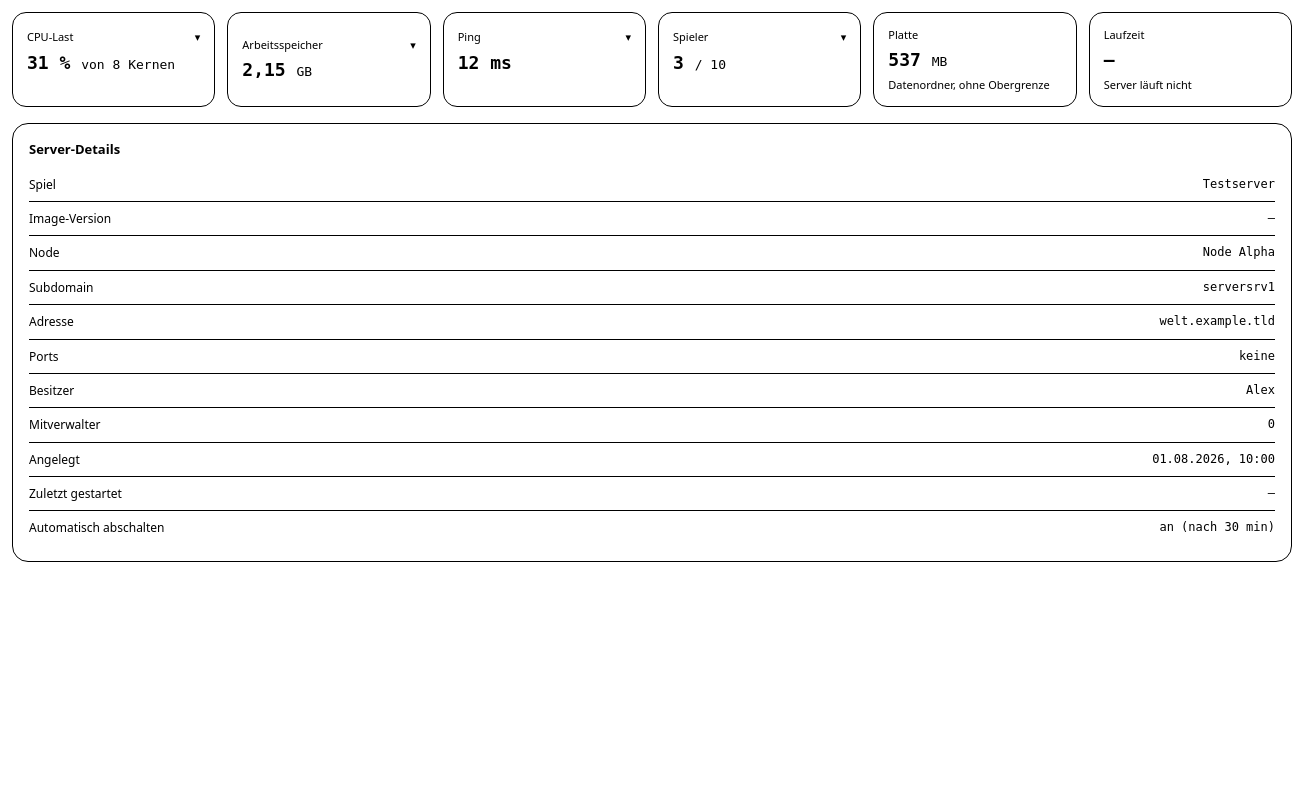
Scenario: OverviewTab – Kacheln im hafenmeister-Stil › sagt bei genau einer Messung, dass es fuer eine Linie nicht reicht
Click the button "CPU-Last ▾ 31 % von 8 Kernen": (114, 60) [12,12,215,107]
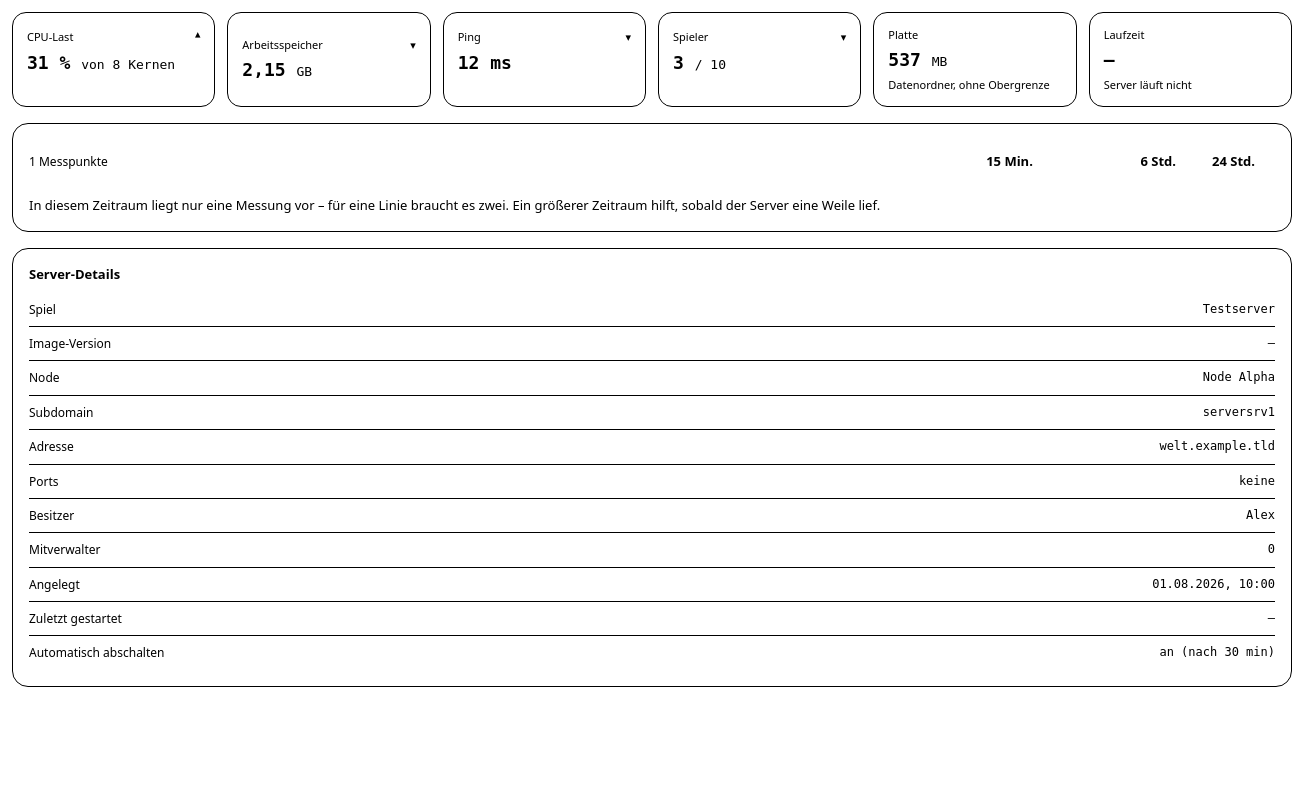
Check: the text "nur eine Messung vor" is shown, box [29,196,880,214]
